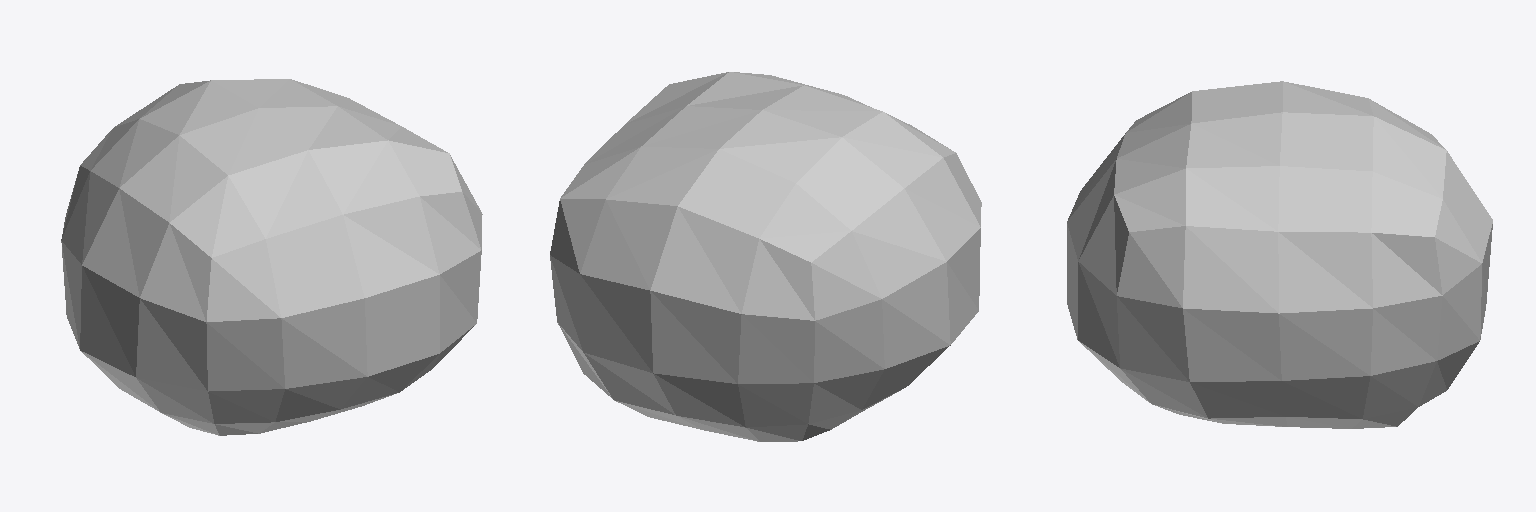
File: shrub.obj
The picture shows the model from 3 angles: view 1: azimuth 30°, elevation 25°; view 2: azimuth 150°, elevation 25°; view 3: azimuth 270°, elevation 25°; orthographic projection.
Parts seen in each view (by area): view 1: Cube; view 2: Cube; view 3: Cube.
Part boxes in pixels (x1,y1,x2,y2): Cube: (61,79,482,435); Cube: (550,72,981,441); Cube: (1067,81,1492,428).
Size of the model in its own units: 1.63 by 1.27 by 1.68.